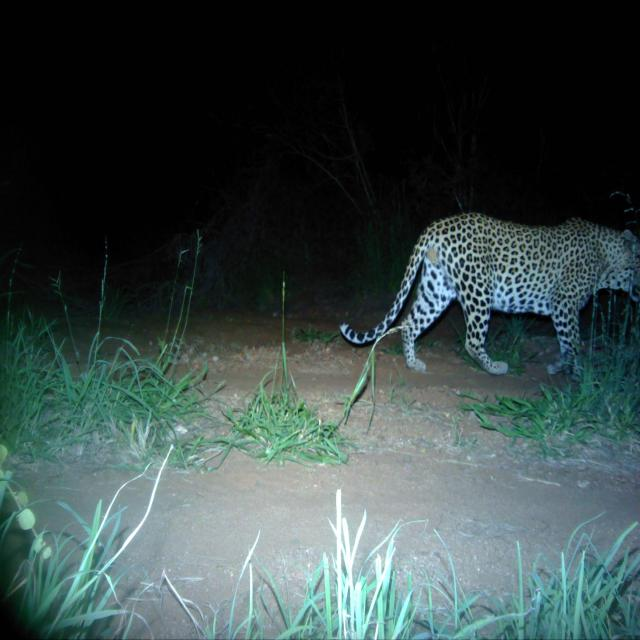Leopard: (344, 205, 631, 397)
